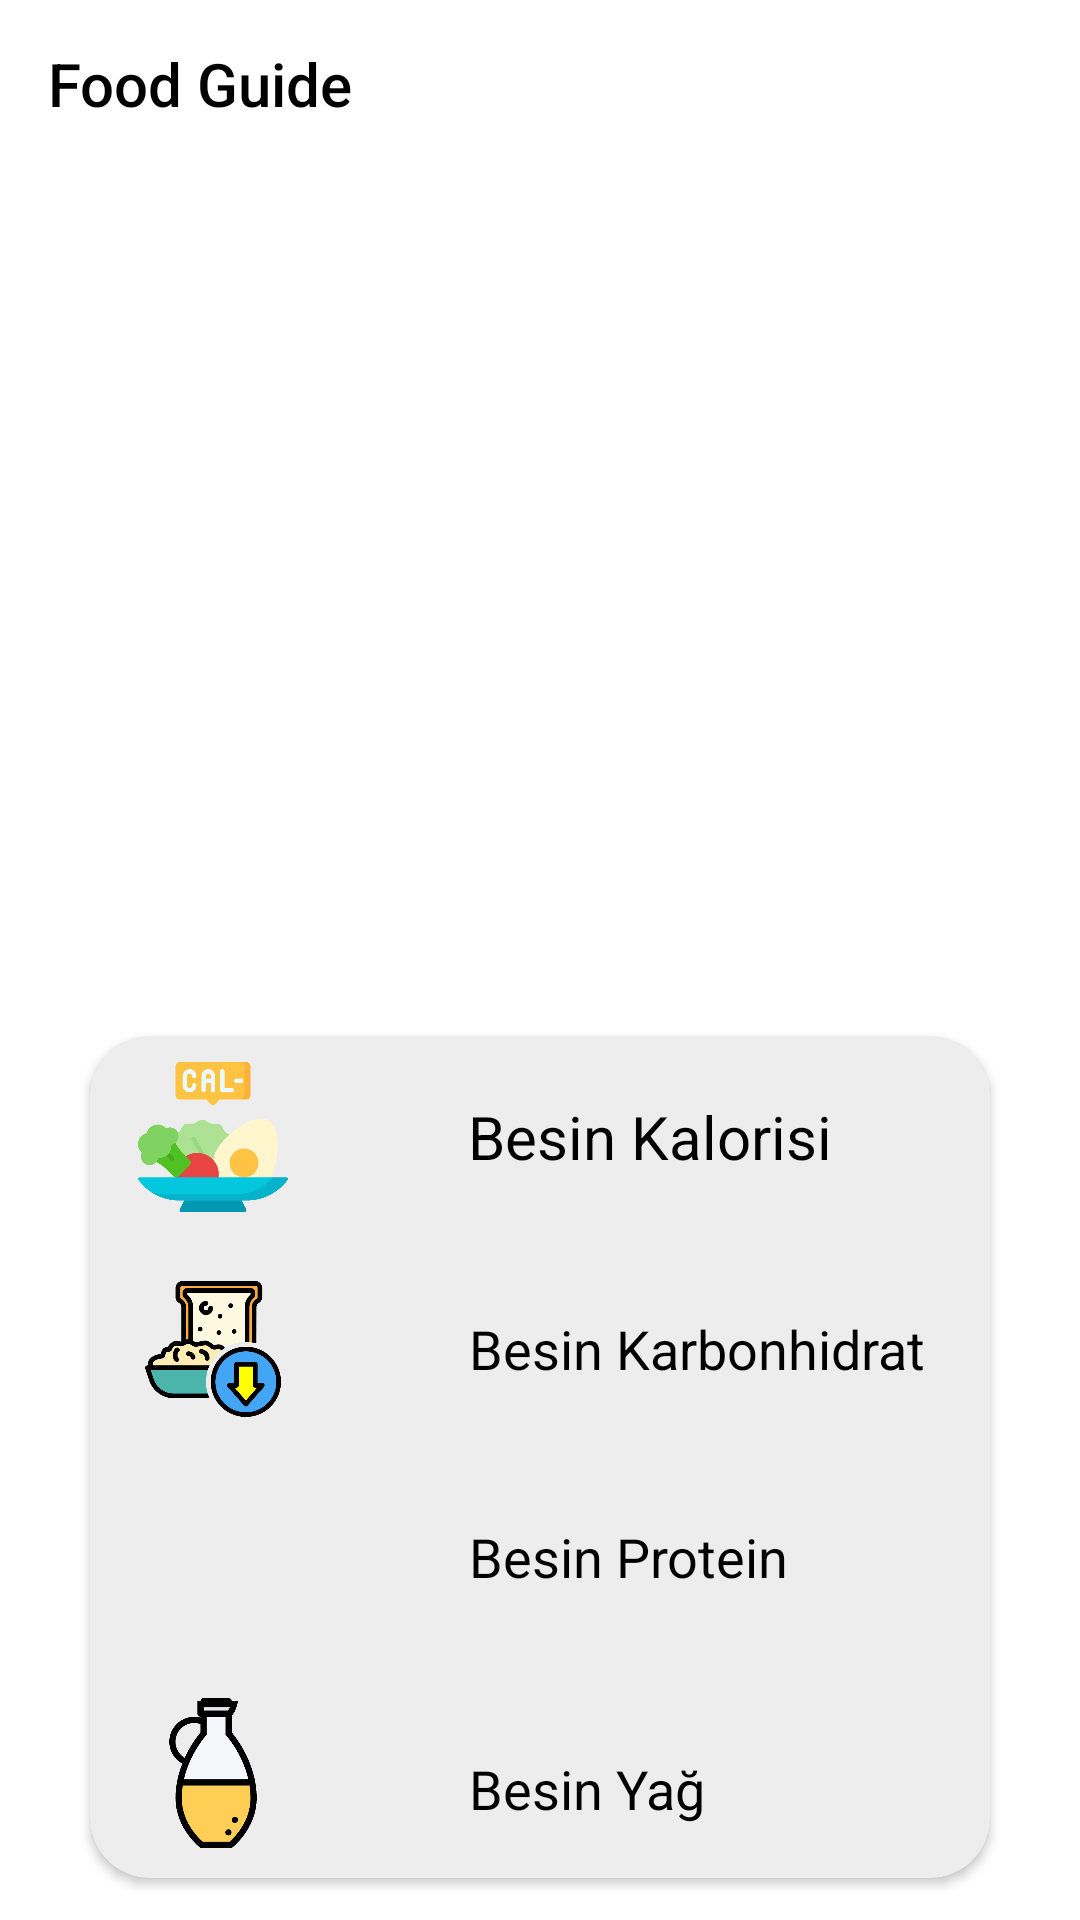

Icon bounding boxes for this 1080 × 1920 phone screenshot, format [x1, y1, x2, y2]:
bread: [145, 1281, 281, 1417]
calories: [138, 1062, 288, 1212]
oil: [169, 1698, 257, 1848]
